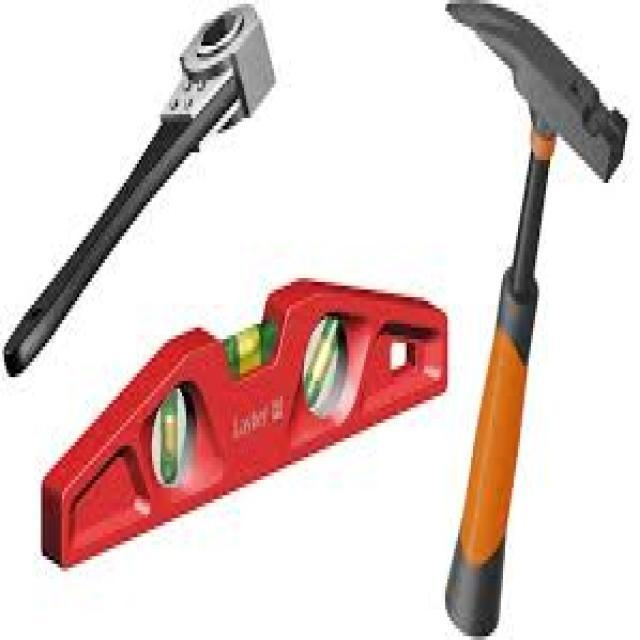Palu: (432, 7, 634, 634)
